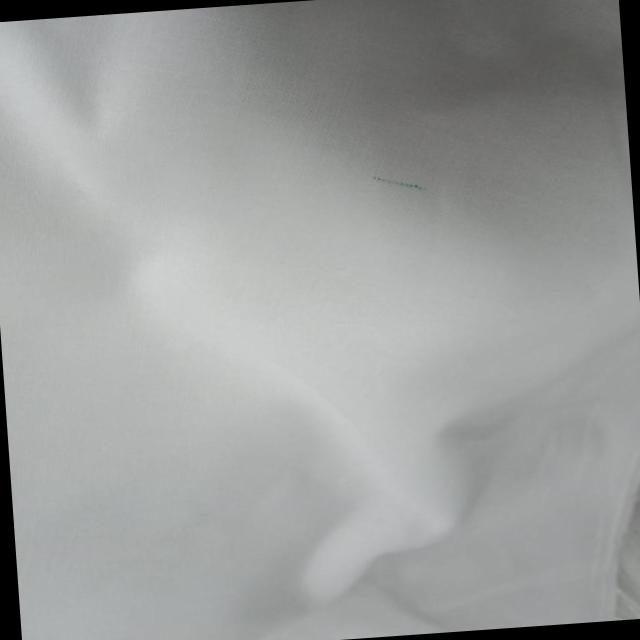contamination: (361, 164, 432, 200)
